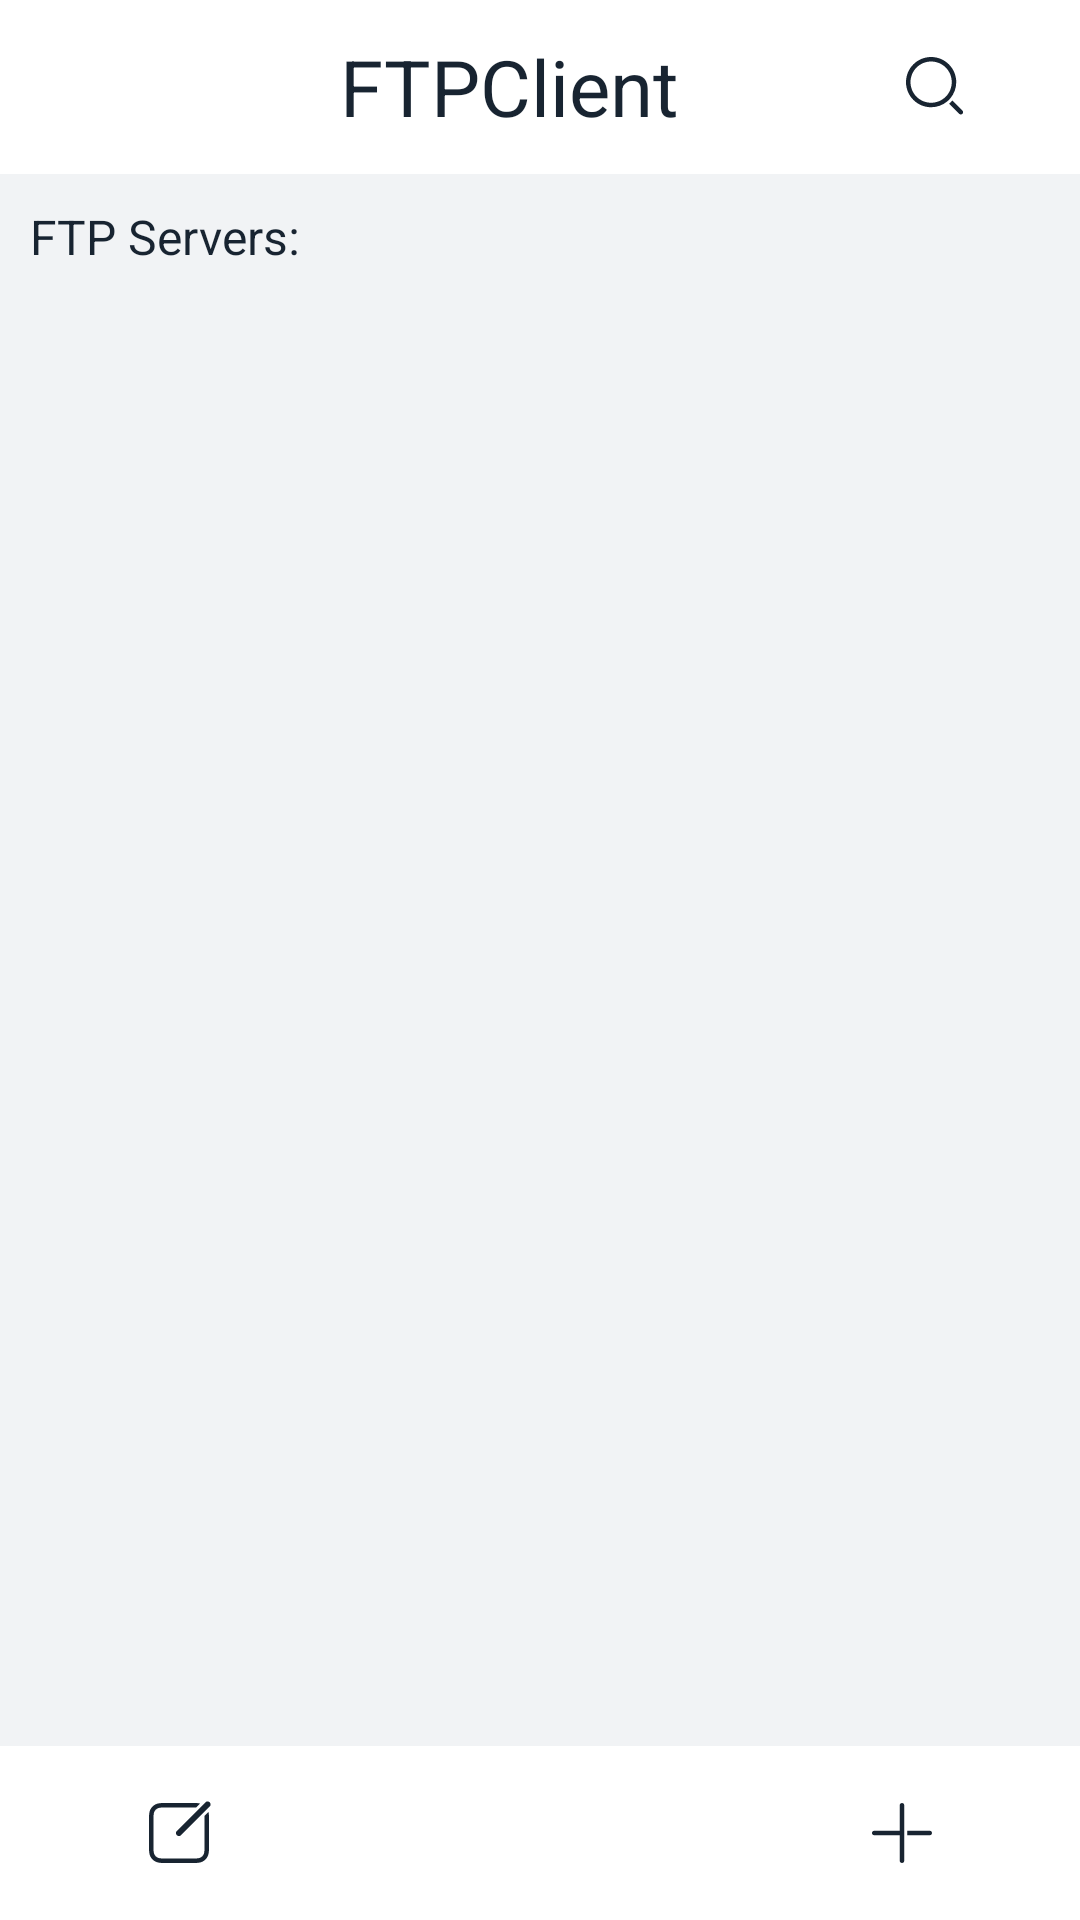

Point at icon controls on the screen. Image size 1080 x 1920, points as point (x, y).
public add: point (902, 1833)
public edit: point (180, 1832)
search: point (934, 86)
